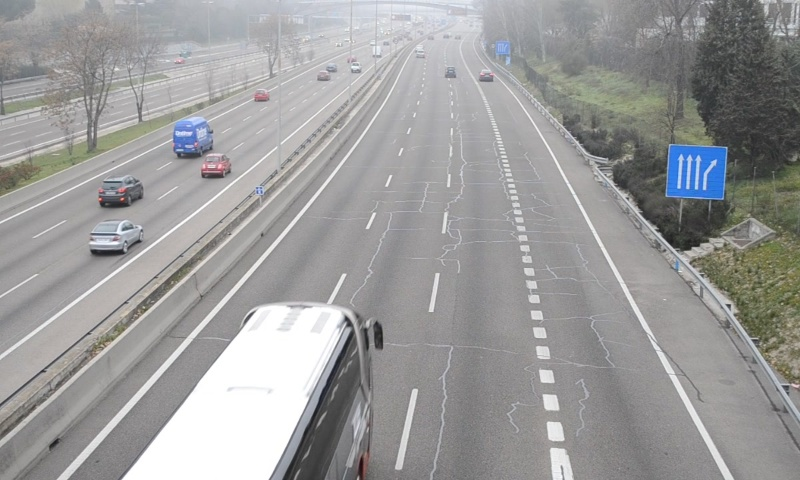bus: (117, 303, 377, 478)
car: (478, 69, 494, 82), (444, 65, 458, 79)
